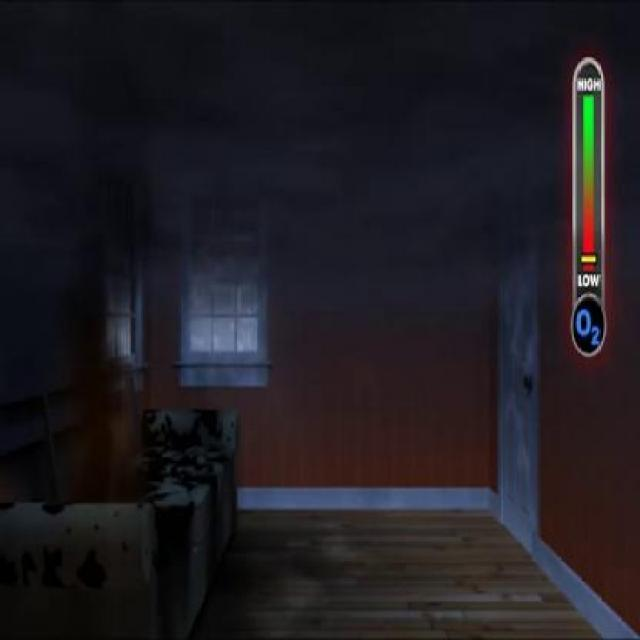smoke: (261, 107, 521, 335), (34, 250, 158, 484)
